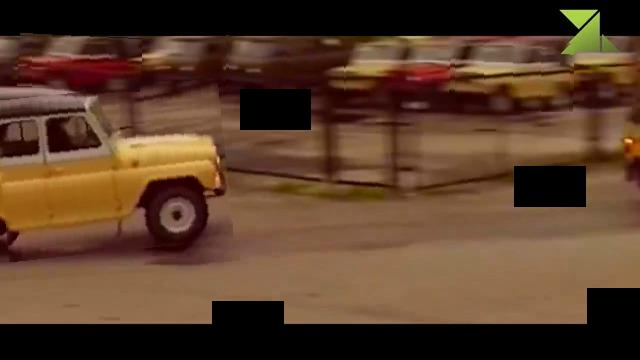MIL_HMMWV: (0, 84, 229, 257), (450, 40, 575, 111), (18, 34, 142, 90), (226, 36, 346, 92)
